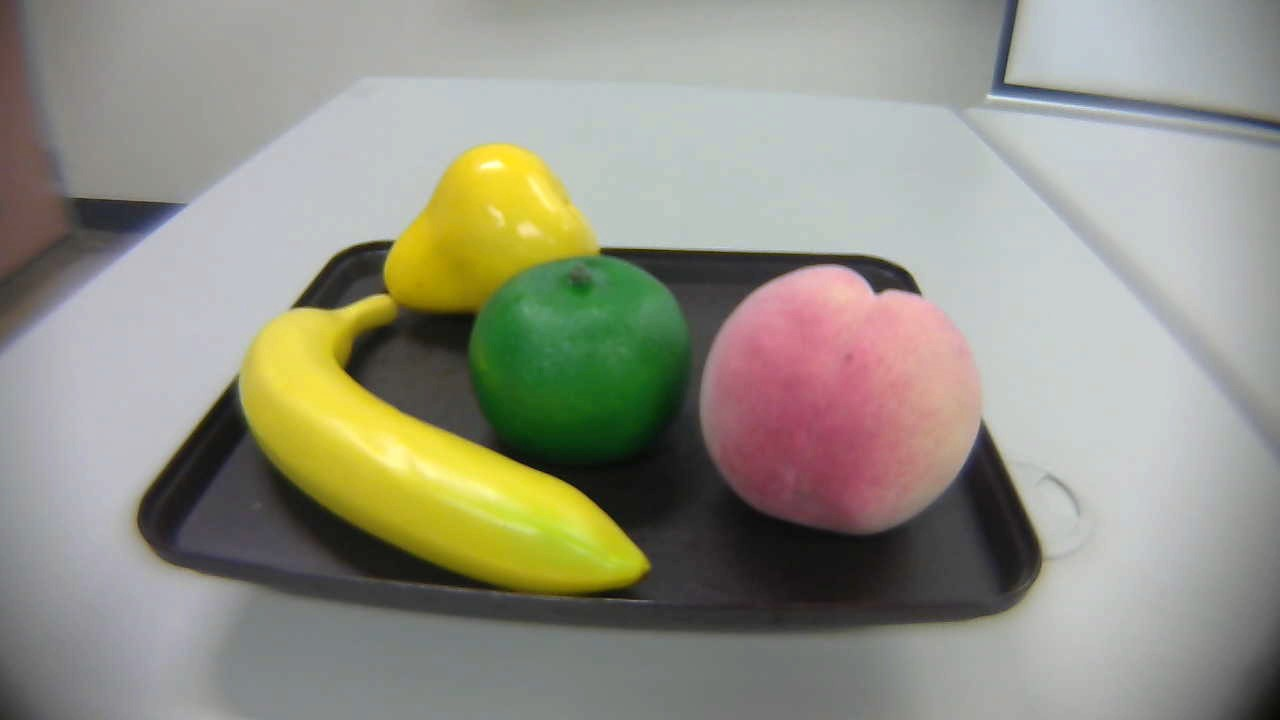banana: (237, 293, 664, 607)
green orange: (462, 241, 701, 483)
peach: (695, 263, 996, 542)
yellow pear: (362, 139, 605, 317)
